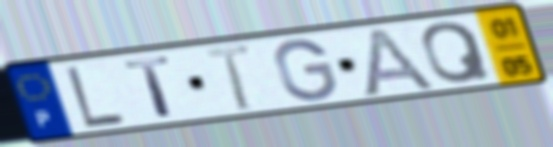A: (360, 24, 440, 100)
G: (272, 37, 341, 103)
L: (62, 63, 130, 129)
Q: (419, 19, 495, 86)
T: (121, 54, 179, 120), (201, 42, 254, 114)
